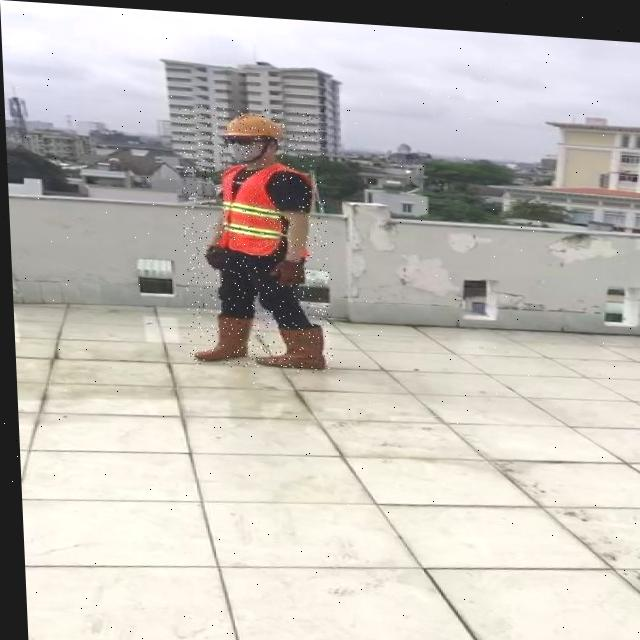Gloves: (265, 253, 303, 282), (202, 241, 225, 266)
Helmet: (215, 107, 282, 140)
Safety-Boot: (251, 316, 323, 366), (186, 308, 251, 361)
Safety-Vest: (209, 154, 312, 258)
